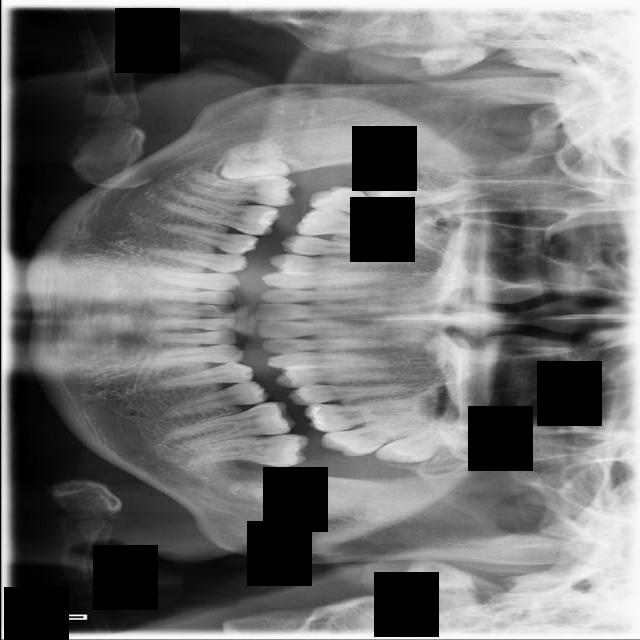3M ESPE Implant: (363, 180, 469, 208)
52: (301, 403, 355, 433)
73: (70, 614, 78, 620)
BioHorizons Implant: (318, 409, 433, 465)
BioLife Implant: (372, 423, 457, 474)
Blue Sky Bio Implant: (190, 434, 308, 468)
Caries: (305, 178, 429, 236)
Implant: (186, 162, 298, 210)
Keystone Dental Implant: (217, 138, 290, 184)
